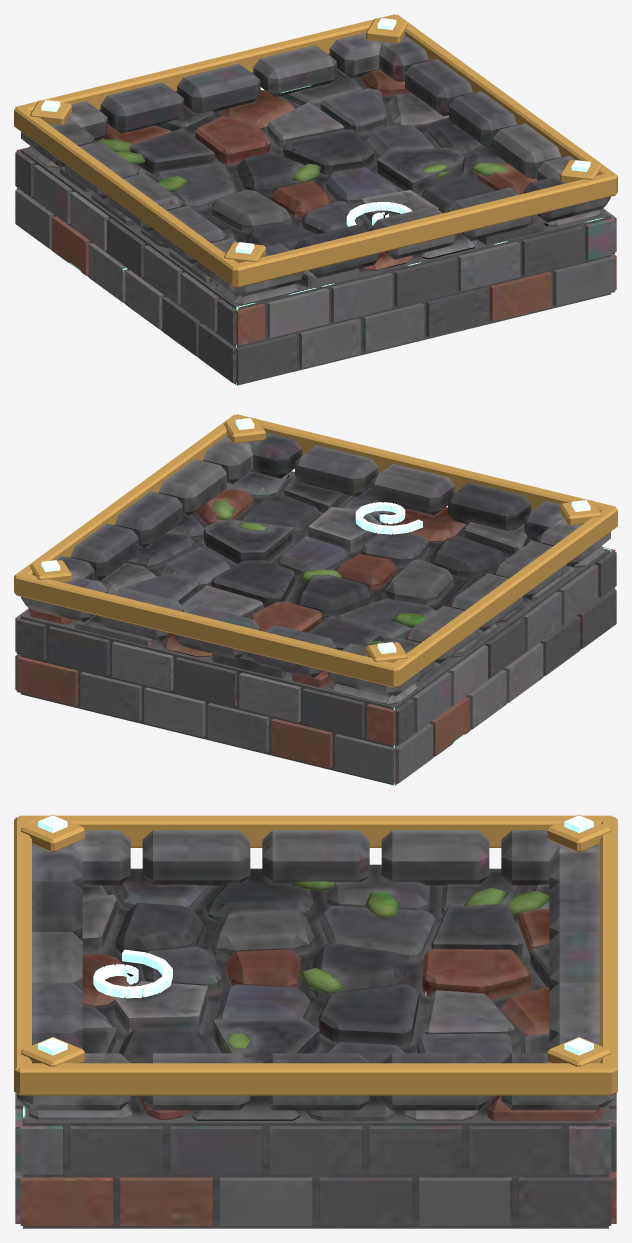
The model's file is plate_3_stribog.glb.
3 views of the same model, one above another, from view 1: azimuth 30°, elevation 25°; view 2: azimuth 150°, elevation 25°; view 3: azimuth 270°, elevation 25° (orthographic). The views are drawn at different scales.
Parts seen in each view (by area): view 1: plate_3_stribog; view 2: plate_3_stribog; view 3: plate_3_stribog.
Part boxes in pixels (x1,y1,x2,y2): plate_3_stribog: (14, 14, 617, 385); plate_3_stribog: (14, 414, 617, 785); plate_3_stribog: (14, 814, 617, 1228).
Size of the model in its own units: 2.02 by 0.635 by 2.02.
2 materials, 1 textured.
